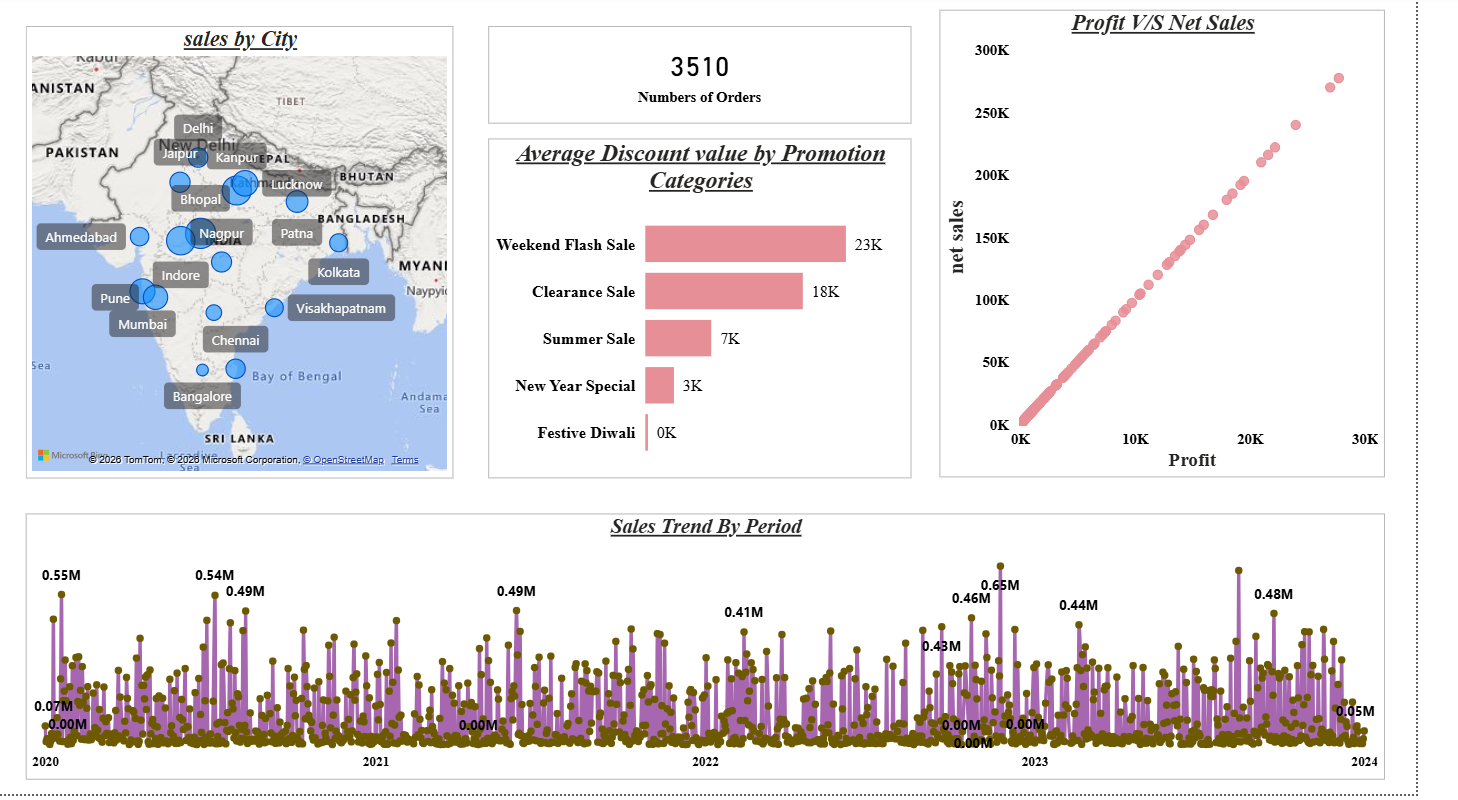

The dashboard page shown, as its layout file describes it:
{"tool":"powerbi","page":{"name":"Overview","canvas":[1280,720],"ordinal":1},"visuals":[{"type":"lineChart","title":"Sales Trend By Period","fields":{"Y":["Sum(fact data.net sales)"],"Category":["fact data.Date (dd/mm/yyyy).Variation.Date Hierarchy.Year"]},"box":[26.1,466.5,1225.3,240.1],"z":0},{"type":"scatterChart","title":"Profit V/S Net Sales","fields":{"X":["fact data.Profit"],"Y":["fact data.net sales"]},"box":[849.6,12.4,401.8,421.7],"z":1000},{"type":"barChart","title":"Average Discount value by Promotion Categories","fields":{"Y":["Avg(fact data.discount value)"],"Category":["Dim Promotion.Promotion Name"]},"box":[442.8,128.1,381.9,306],"z":2000},{"type":"map","title":"sales by City","fields":{"Category":["Dim Customers.City"],"Size":["Sum(fact data.net sales)"]},"box":[26.1,27.4,385.6,408],"z":3000},{"type":"card","fields":{"Values":["Count(fact data.Order ID)"]},"box":[442.8,27.4,381.9,88.3],"z":4000}]}

Visuals, with their boxes in screenshot pixels (x1, y1, x2, y2), scaled from the page's 1280x720 canvas onto the 1458x800 screenshot:
"Sales Trend By Period" lineChart: BBox(30, 518, 1425, 785)
"Profit V/S Net Sales" scatterChart: BBox(968, 14, 1425, 482)
"Average Discount value by Promotion Categories" barChart: BBox(504, 142, 939, 482)
"sales by City" map: BBox(30, 30, 469, 484)
card - Count(fact data.Order ID): BBox(504, 30, 939, 129)
